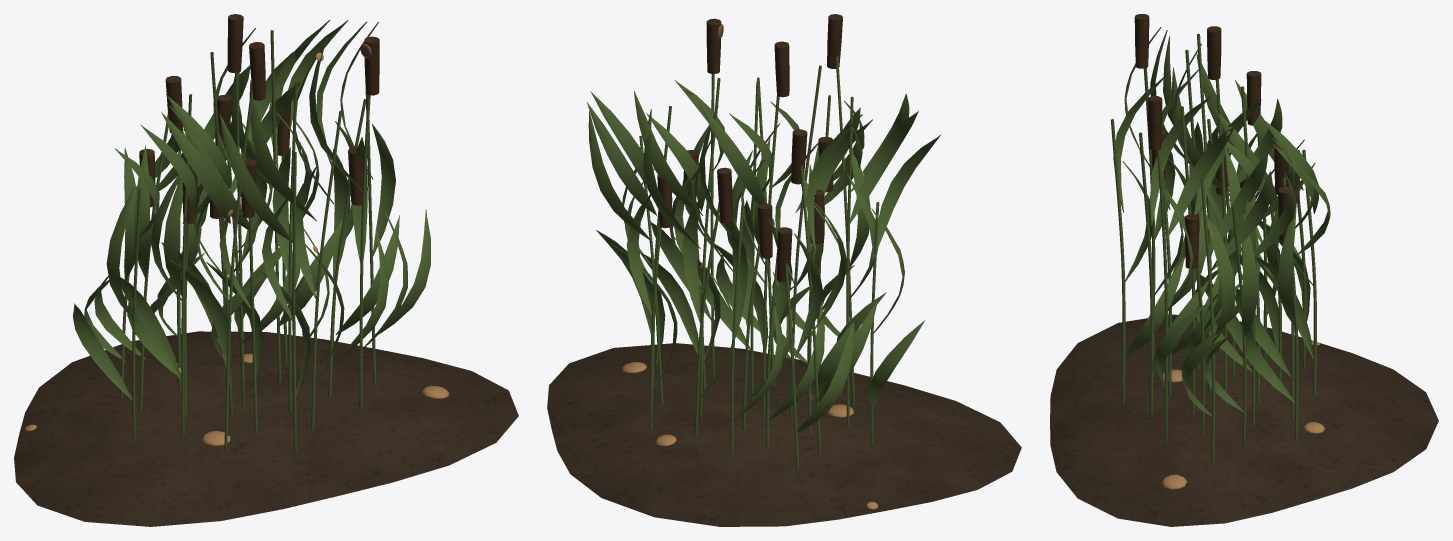
3 views of the same model, side by side, from view 1: azimuth 30°, elevation 25°; view 2: azimuth 150°, elevation 25°; view 3: azimuth 270°, elevation 25° (orthographic). The views are drawn at different scales.
Visible parts, largest first — view 1: earthen mineral, foliage, heartwood, peened pin; view 2: earthen mineral, foliage, heartwood, peened pin; view 3: earthen mineral, foliage, heartwood, peened pin.
Boxes of the visible parts, x1,y1,x2,y2 form: earthen mineral: (14,331,518,526); foliage: (73,16,430,452); heartwood: (139,14,379,223); peened pin: (25,353,448,446); earthen mineral: (547,343,1021,526); foliage: (587,17,940,470); heartwood: (657,14,842,282); peened pin: (621,362,878,509); earthen mineral: (1050,314,1438,526); foliage: (1110,27,1330,461); heartwood: (1134,14,1300,268); peened pin: (1161,341,1324,489).
Bounding box in the file's own units: 0.9308 × 0.7968 × 0.72.
Materials: 5 (2 with a texture image).
